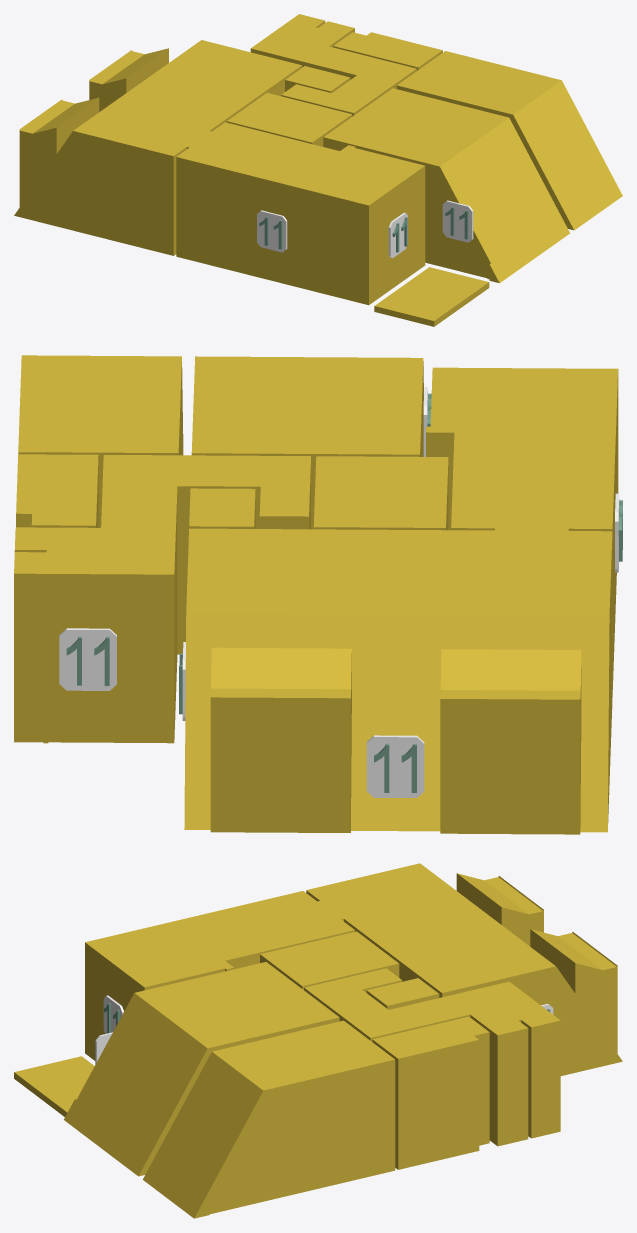
The picture shows the model from 3 angles, top to bottom: view 1: azimuth 30°, elevation 25°; view 2: azimuth 150°, elevation 25°; view 3: azimuth 270°, elevation 25°; orthographic projection. The views are drawn at different scales.
Parts seen in each view (by area): view 1: g_1, g_0, g_2, g_3, g_5, g_8, g_4, g_7, g_6, g_17, g_23, g_26; view 2: g_0, g_5, g_1, g_2, g_3, g_4, g_7, g_20, g_11, g_6; view 3: g_3, g_0, g_2, g_5, g_1, g_7, g_4, g_8, g_6.
Boxes of the visible parts, <box> form: g_1: <box>176,122,425,305</box>; g_0: <box>14,40,302,255</box>; g_2: <box>323,88,569,283</box>; g_3: <box>396,51,622,230</box>; g_5: <box>250,14,416,116</box>; g_8: <box>374,267,489,326</box>; g_4: <box>226,93,352,146</box>; g_7: <box>333,32,442,70</box>; g_6: <box>285,66,350,92</box>; g_17: <box>442,200,473,242</box>; g_23: <box>257,210,287,252</box>; g_26: <box>388,212,407,258</box>; g_0: <box>184,528,612,834</box>; g_5: <box>14,455,310,743</box>; g_1: <box>426,367,618,697</box>; g_2: <box>191,356,423,529</box>; g_3: <box>18,355,183,527</box>; g_4: <box>313,456,448,530</box>; g_7: <box>16,454,98,527</box>; g_20: <box>366,735,424,797</box>; g_11: <box>59,628,116,690</box>; g_6: <box>189,488,255,528</box>; g_3: <box>143,1020,395,1218</box>; g_0: <box>306,863,622,1075</box>; g_2: <box>64,962,339,1176</box>; g_5: <box>304,968,560,1146</box>; g_1: <box>85,891,354,1060</box>; g_7: <box>372,1016,489,1169</box>; g_4: <box>260,931,399,989</box>; g_8: <box>14,1056,94,1116</box>; g_6: <box>366,978,439,1009</box>.
Size of the model in its own units: 12.75 by 2.71 by 12.64.
